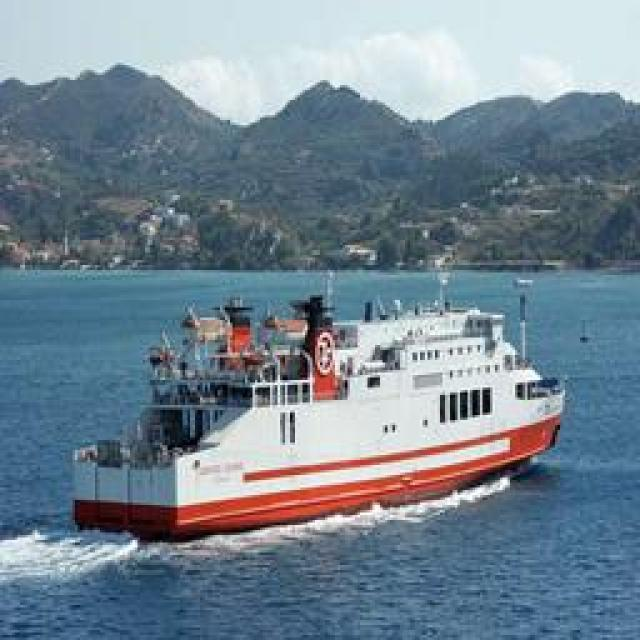CIV_Ship: (60, 285, 568, 545)
